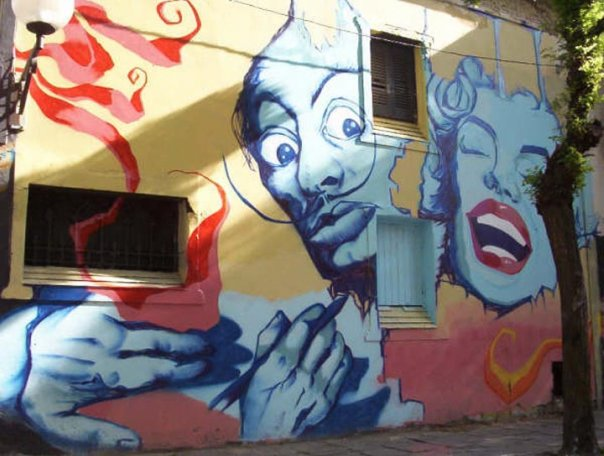graffity: (1, 1, 599, 452)
